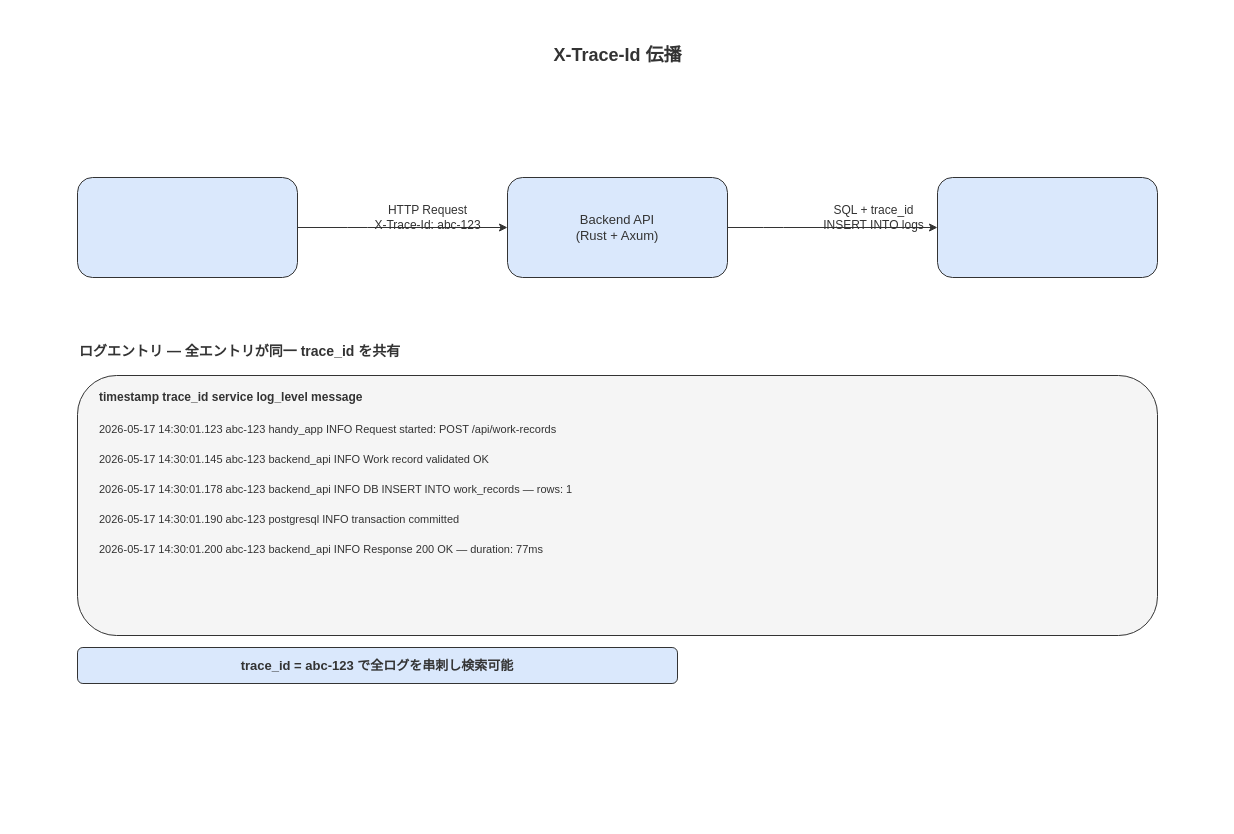
Some shapes in this 1234 by 834 pixel diagram are drawn without their labels. Each missing label, with the centre of its shape:
PostgreSQL ログテーブル: the point at 1047,227
クライアント (Handy APP / Web APP): the point at 187,227
